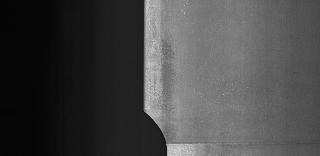welding line: (158, 138, 320, 150)
